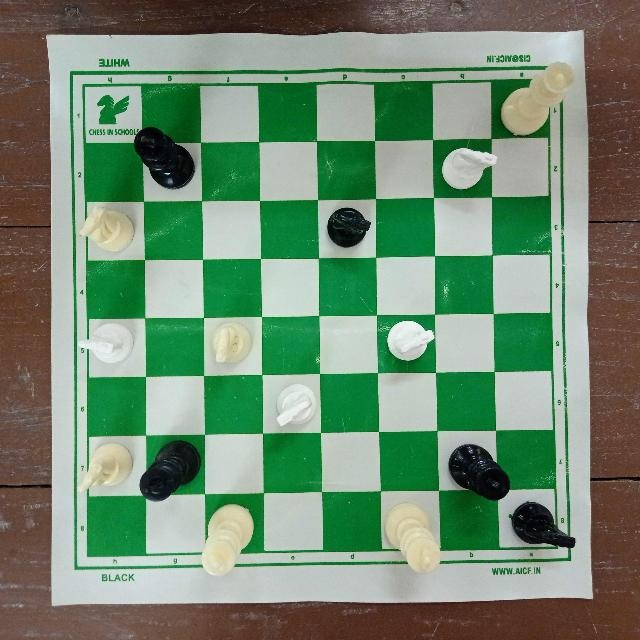black-king: (127, 123, 198, 195), (139, 434, 201, 506), (447, 436, 512, 504)
black-knight: (512, 500, 581, 554), (322, 201, 378, 251)
white-king: (380, 498, 444, 576), (197, 499, 255, 576)
white-knight: (77, 440, 135, 501), (79, 203, 136, 255), (74, 324, 140, 368), (440, 144, 498, 192), (386, 314, 436, 369), (270, 380, 322, 432), (210, 320, 258, 374)
white-queen: (498, 58, 577, 138)
